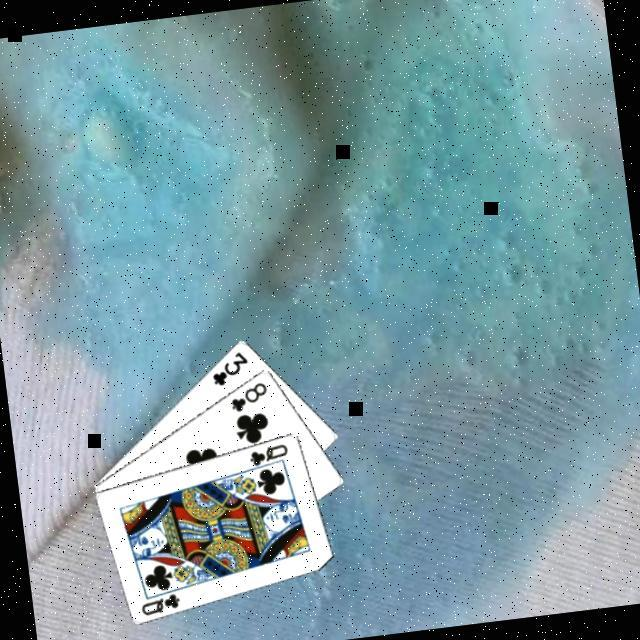3C: (205, 348, 252, 391)
8C: (225, 379, 272, 416)
QC: (136, 590, 184, 619), (244, 441, 291, 470)
